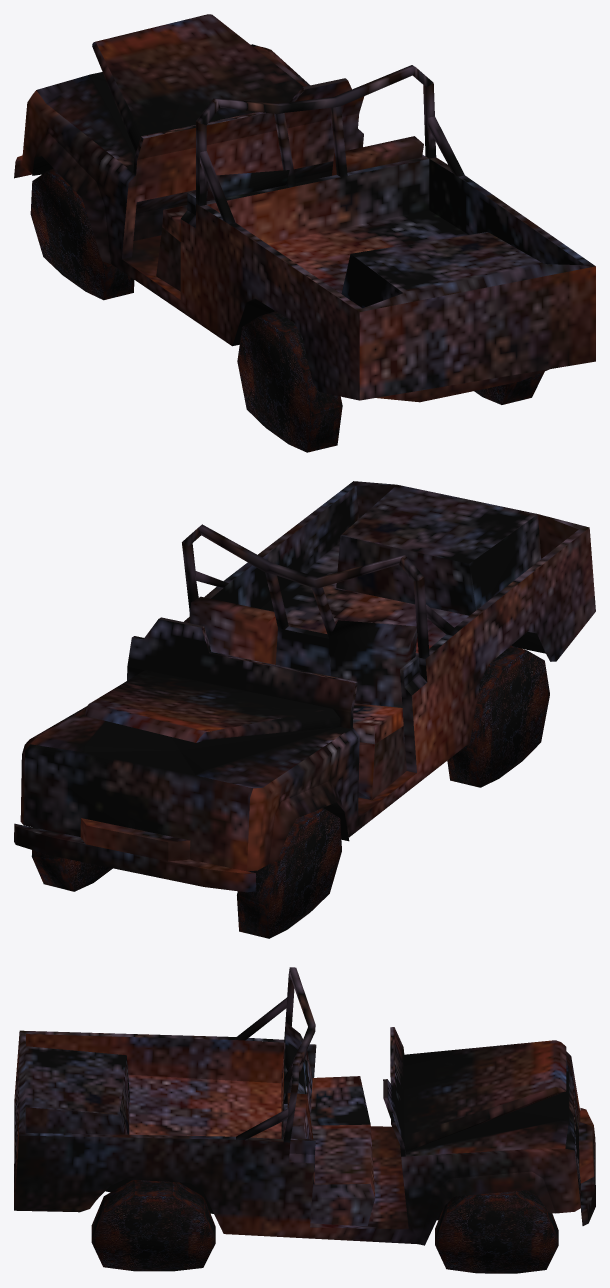
The model's file is SAS_Land_Rover_Destroyed.glb.
3 views of the same model, one above another, from view 1: azimuth 30°, elevation 25°; view 2: azimuth 150°, elevation 25°; view 3: azimuth 270°, elevation 25° (orthographic). The views are drawn at different scales.
Parts seen in each view (by area): view 1: SAS_LAND_ROVER_DESTROYED; view 2: SAS_LAND_ROVER_DESTROYED; view 3: SAS_LAND_ROVER_DESTROYED.
Part boxes in pixels (bbox=[...]): SAS_LAND_ROVER_DESTROYED: bbox=[14, 14, 595, 452]; SAS_LAND_ROVER_DESTROYED: bbox=[14, 481, 595, 938]; SAS_LAND_ROVER_DESTROYED: bbox=[14, 967, 595, 1273].
Bounding box in the file's own units: 1.89 × 1.9 × 4.47.
1 material, 1 textured.
